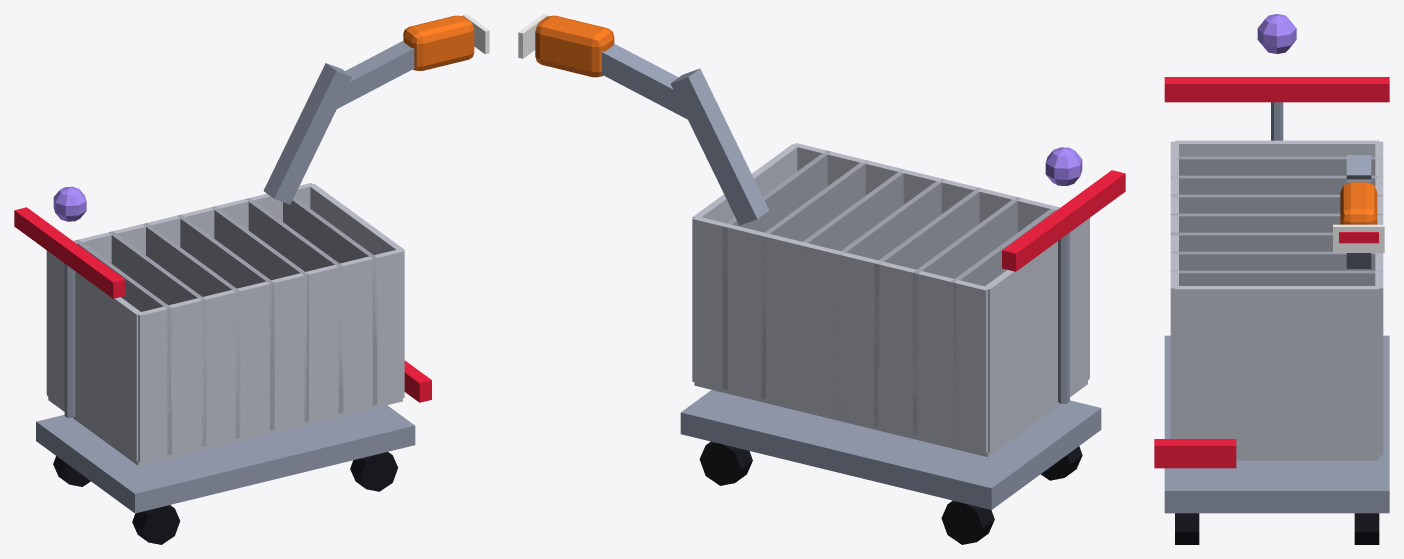
Rendered from chariot_robot.glb.
3 renders of one model, left to right at view 1: azimuth 30°, elevation 25°; view 2: azimuth 150°, elevation 25°; view 3: azimuth 270°, elevation 25°, orthographic. The views are drawn at different scales.
Visible parts, largest first — view 1: p_box.8476, p_box.8474, p_box.8478, p_box.8490, p_box.8477, p_box.8483, p_box.8486, p_box.8489, p_box.8481, p_box.8484, p_rbox.2196, p_box.8482 (+10 smaller); view 2: p_box.8477, p_box.8474, p_box.8478, p_box.8490, p_box.8476, p_box.8482, p_box.8481, p_box.8489, p_box.8485, p_rbox.2196, p_box.8486, p_box.8483 (+9 smaller); view 3: p_box.8479, p_box.8474, p_box.8489, p_box.8485, p_box.8480, p_box.8481, p_box.8478, p_box.8482, p_box.8483, p_box.8486, p_box.8484, p_box.8494 (+11 smaller).
Part boxes in pixels (x1=…): p_box.8476: x1=137, y1=248, x2=404, y2=462; p_box.8474: x1=36, y1=405, x2=415, y2=513; p_box.8478: x1=47, y1=251, x2=142, y2=461; p_box.8490: x1=263, y1=63, x2=352, y2=204; p_box.8477: x1=46, y1=183, x2=314, y2=393; p_box.8483: x1=177, y1=214, x2=274, y2=430; p_box.8486: x1=283, y1=197, x2=377, y2=405; p_box.8489: x1=14, y1=207, x2=125, y2=298; p_box.8481: x1=108, y1=231, x2=206, y2=447; p_box.8484: x1=211, y1=206, x2=308, y2=422; p_rbox.2196: x1=403, y1=15, x2=474, y2=70; p_box.8482: x1=143, y1=223, x2=240, y2=438; p_box.8477: x1=692, y1=216, x2=988, y2=453; p_box.8474: x1=680, y1=390, x2=1101, y2=509; p_box.8478: x1=983, y1=218, x2=1089, y2=452; p_box.8490: x1=670, y1=68, x2=769, y2=225; p_box.8476: x1=794, y1=143, x2=1089, y2=376; p_box.8482: x1=874, y1=187, x2=981, y2=426; p_box.8481: x1=912, y1=197, x2=1020, y2=436; p_box.8489: x1=1002, y1=170, x2=1125, y2=271; p_box.8485: x1=760, y1=160, x2=868, y2=399; p_rbox.2196: x1=535, y1=15, x2=614, y2=77; p_box.8486: x1=722, y1=150, x2=830, y2=389; p_box.8483: x1=836, y1=179, x2=945, y2=417; p_box.8479: x1=1175, y1=286, x2=1379, y2=455; p_box.8474: x1=1164, y1=335, x2=1389, y2=513; p_box.8489: x1=1164, y1=77, x2=1389, y2=102; p_box.8485: x1=1170, y1=251, x2=1383, y2=270; p_box.8480: x1=1174, y1=156, x2=1382, y2=175; p_box.8481: x1=1170, y1=175, x2=1383, y2=194; p_box.8478: x1=1175, y1=140, x2=1379, y2=156; p_box.8482: x1=1170, y1=194, x2=1383, y2=213; p_box.8483: x1=1170, y1=213, x2=1382, y2=232; p_box.8486: x1=1171, y1=270, x2=1382, y2=285; p_box.8484: x1=1170, y1=232, x2=1332, y2=251; p_box.8494: x1=1154, y1=439, x2=1236, y2=468.
Size of the model in its own units: 1.48 by 1.15 by 0.575.
